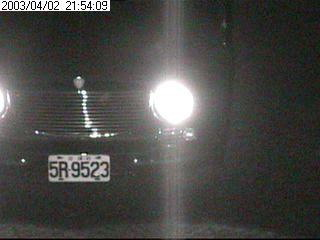plate: (47, 152, 111, 185)
